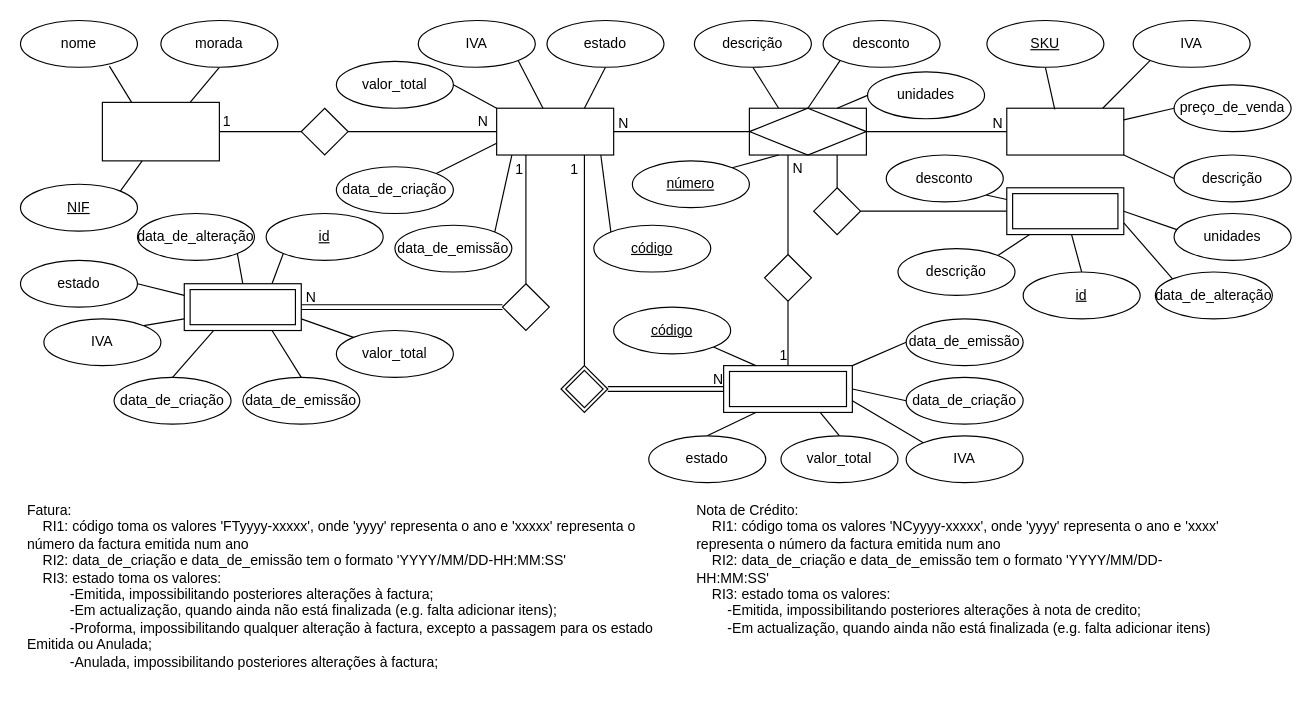
Image size: 1312x706. Some labels were removed from this diagram. The centre of each missing label's shape, as x and y in pixels:
"Alteração Fatura" goes at point (242, 307).
"Alteração Item" goes at point (1065, 211).
"Contribuinte" goes at point (160, 131).
"Fatura" goes at point (554, 131).
"Item" goes at point (807, 131).
"Nota de Crédito" goes at point (787, 388).
"Produto" goes at point (1065, 131).
